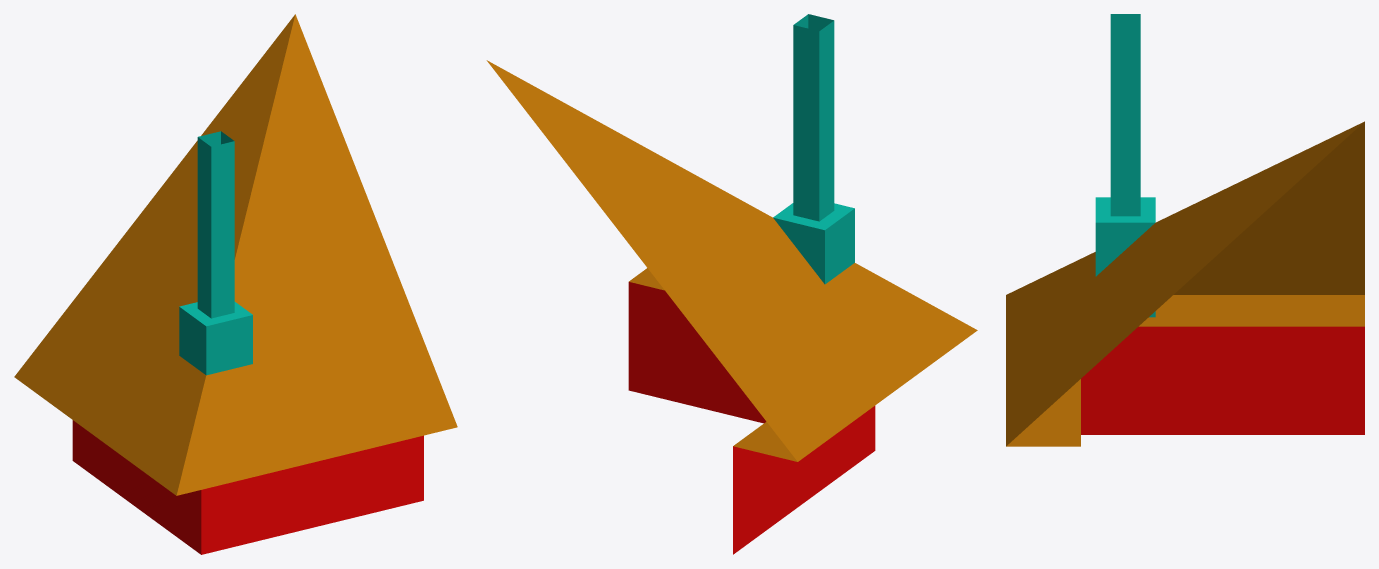
File: None_S_E_E_E_E_E_E_E_BigStrut.fbx
3 views of the same model, side by side, from view 1: azimuth 30°, elevation 25°; view 2: azimuth 150°, elevation 25°; view 3: azimuth 270°, elevation 25° (orthographic). The views are drawn at different scales.
Visible parts, largest first — view 1: None_S_E_E_E_E_E_E_E_BigStrut; view 2: None_S_E_E_E_E_E_E_E_BigStrut; view 3: None_S_E_E_E_E_E_E_E_BigStrut.
Boxes of the visible parts, x1,y1,x2,y2 form: None_S_E_E_E_E_E_E_E_BigStrut: (14,14,457,554); None_S_E_E_E_E_E_E_E_BigStrut: (486,14,977,554); None_S_E_E_E_E_E_E_E_BigStrut: (1006,14,1364,446).
Bounding box in the file's own units: 75 × 100 × 75.
